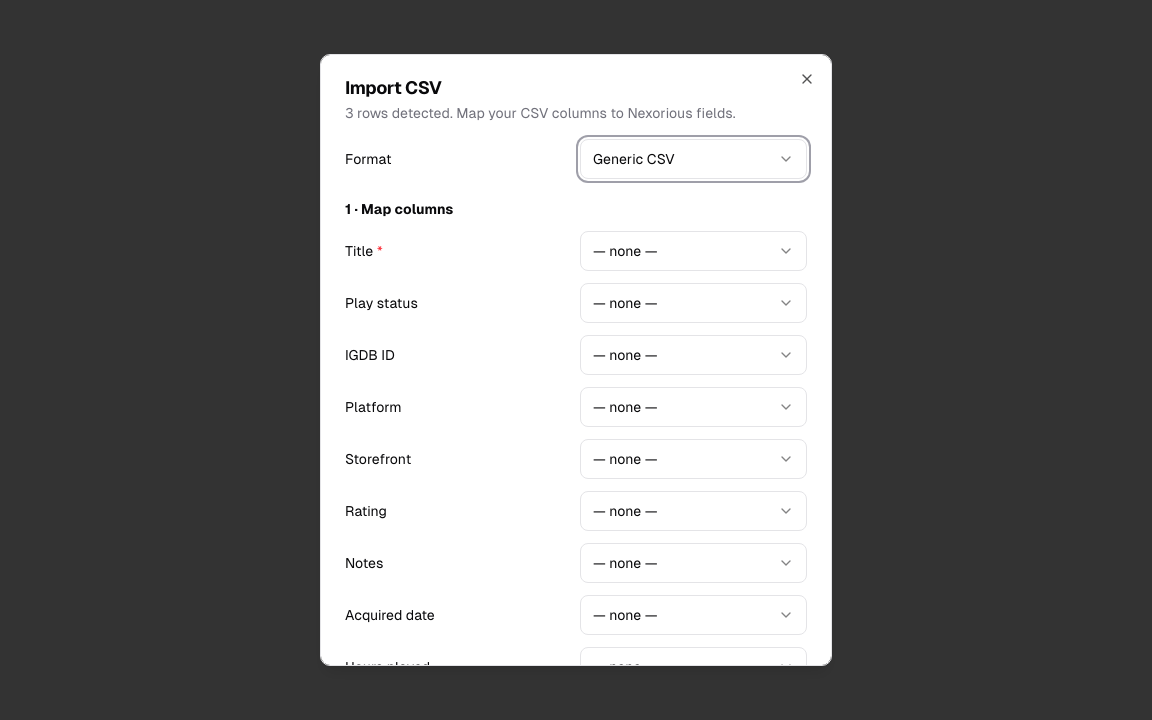
Test: CsvMappingDialog › shows status-value rows only after a status column is chosen
The width and height of the screenshot is (1152, 720).
Expected: the text "2 · Map status values" is not shown
Click the dropdown named "Play status column". click: coordinates (694, 303)
box: x1=580 y1=283 x2=807 y2=323
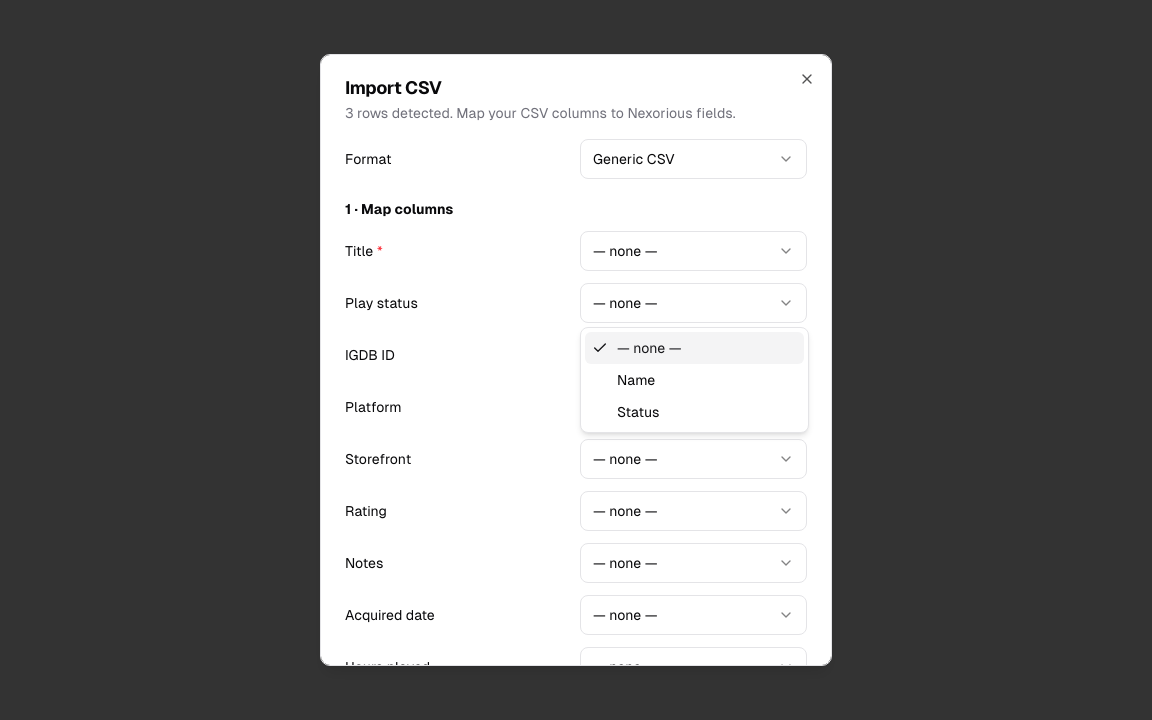
Click the option "Status". click: coordinates (638, 412)
box: x1=617 y1=404 x2=660 y2=420
(page scrolled)
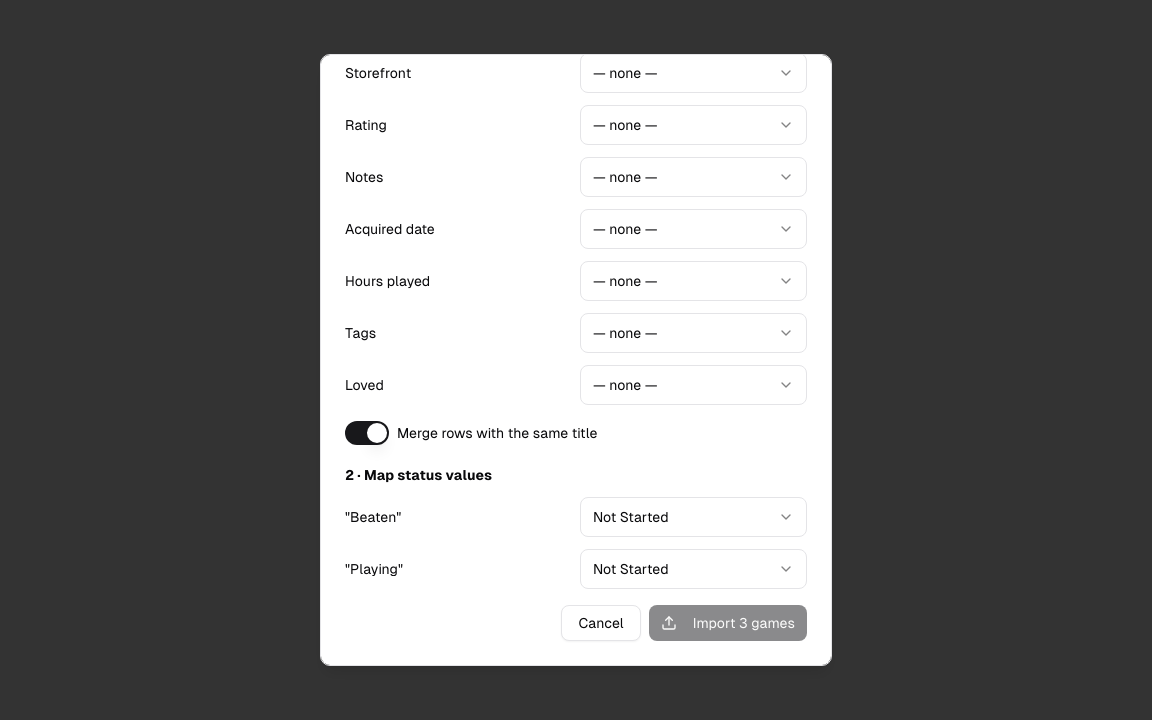
Now the heading "2 · Map status values" is shown, box x1=345 y1=467 x2=492 y2=483
Now the dropdown named "Status for Beaten" is shown, box x1=580 y1=497 x2=807 y2=537
Now the dropdown named "Status for Playing" is shown, box x1=580 y1=549 x2=807 y2=589
